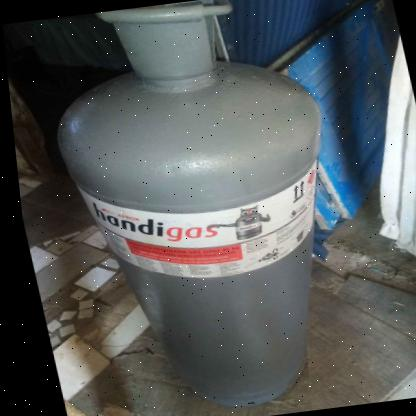gas-tank: (28, 0, 385, 415)
